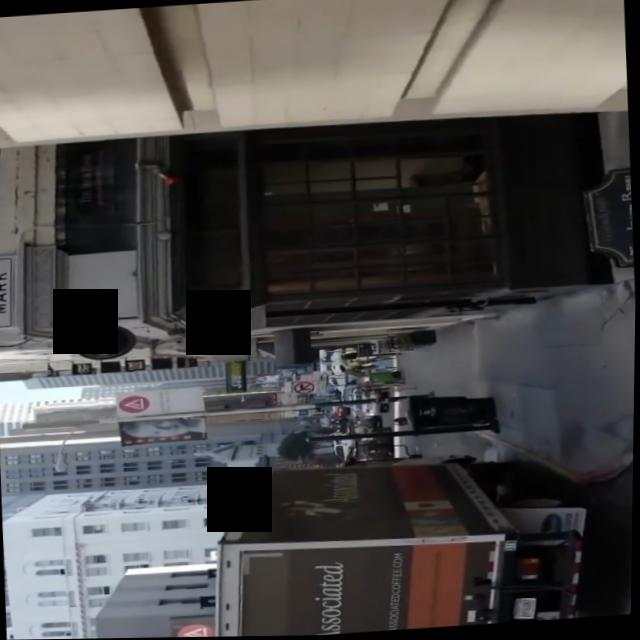Building: (0, 114, 611, 343), (0, 0, 630, 151)
Pole: (48, 387, 438, 474), (304, 421, 505, 449)
Vehicle: (207, 437, 603, 638)
